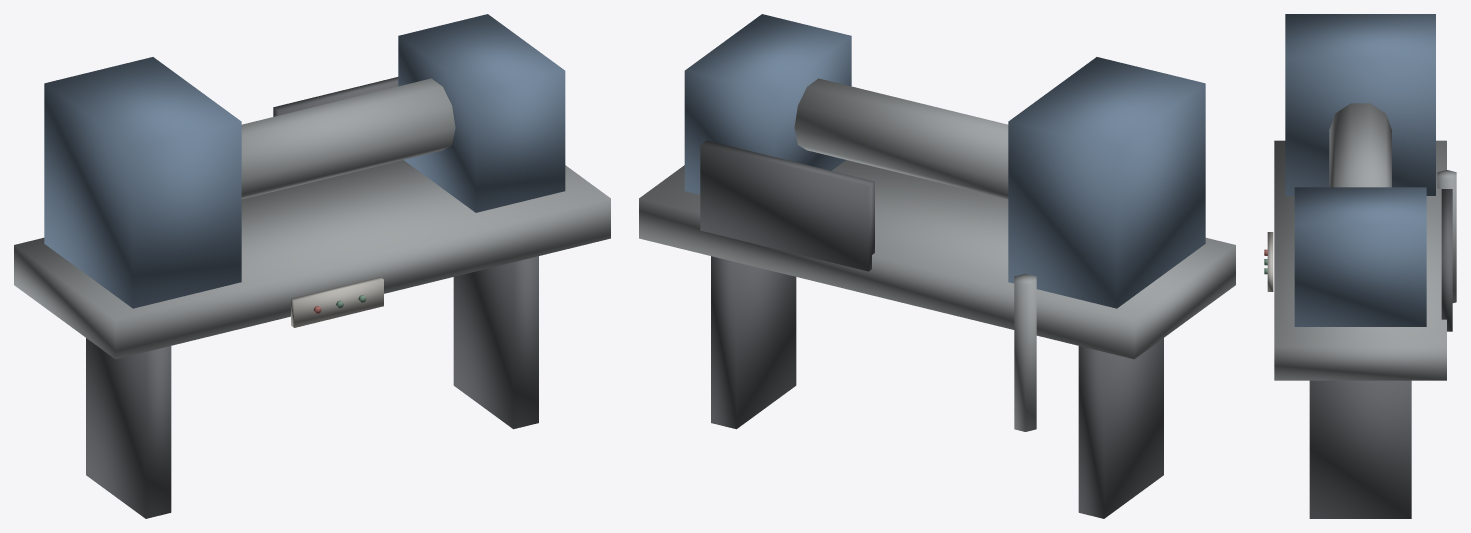
File: metal_lathe_silhouette__service.glb
3 renders of one model, left to right at view 1: azimuth 30°, elevation 25°; view 2: azimuth 150°, elevation 25°; view 3: azimuth 270°, elevation 25°, orthographic. The views are drawn at different scales.
Visible parts, largest first — view 1: world; view 2: world; view 3: world.
Part boxes in pixels (box(x1,y1,x2,y2)): world: box(14, 14, 610, 518); world: box(639, 14, 1235, 518); world: box(1264, 14, 1456, 518).
Size of the model in its own units: 1.55 by 1.16 by 0.6113.
